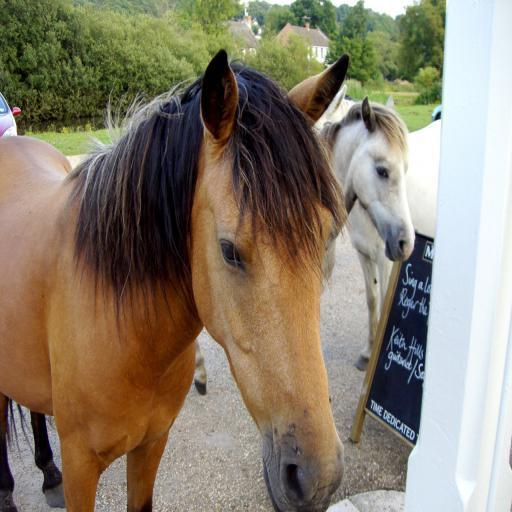horse: (0, 54, 351, 512), (194, 98, 416, 396), (314, 85, 440, 372)
